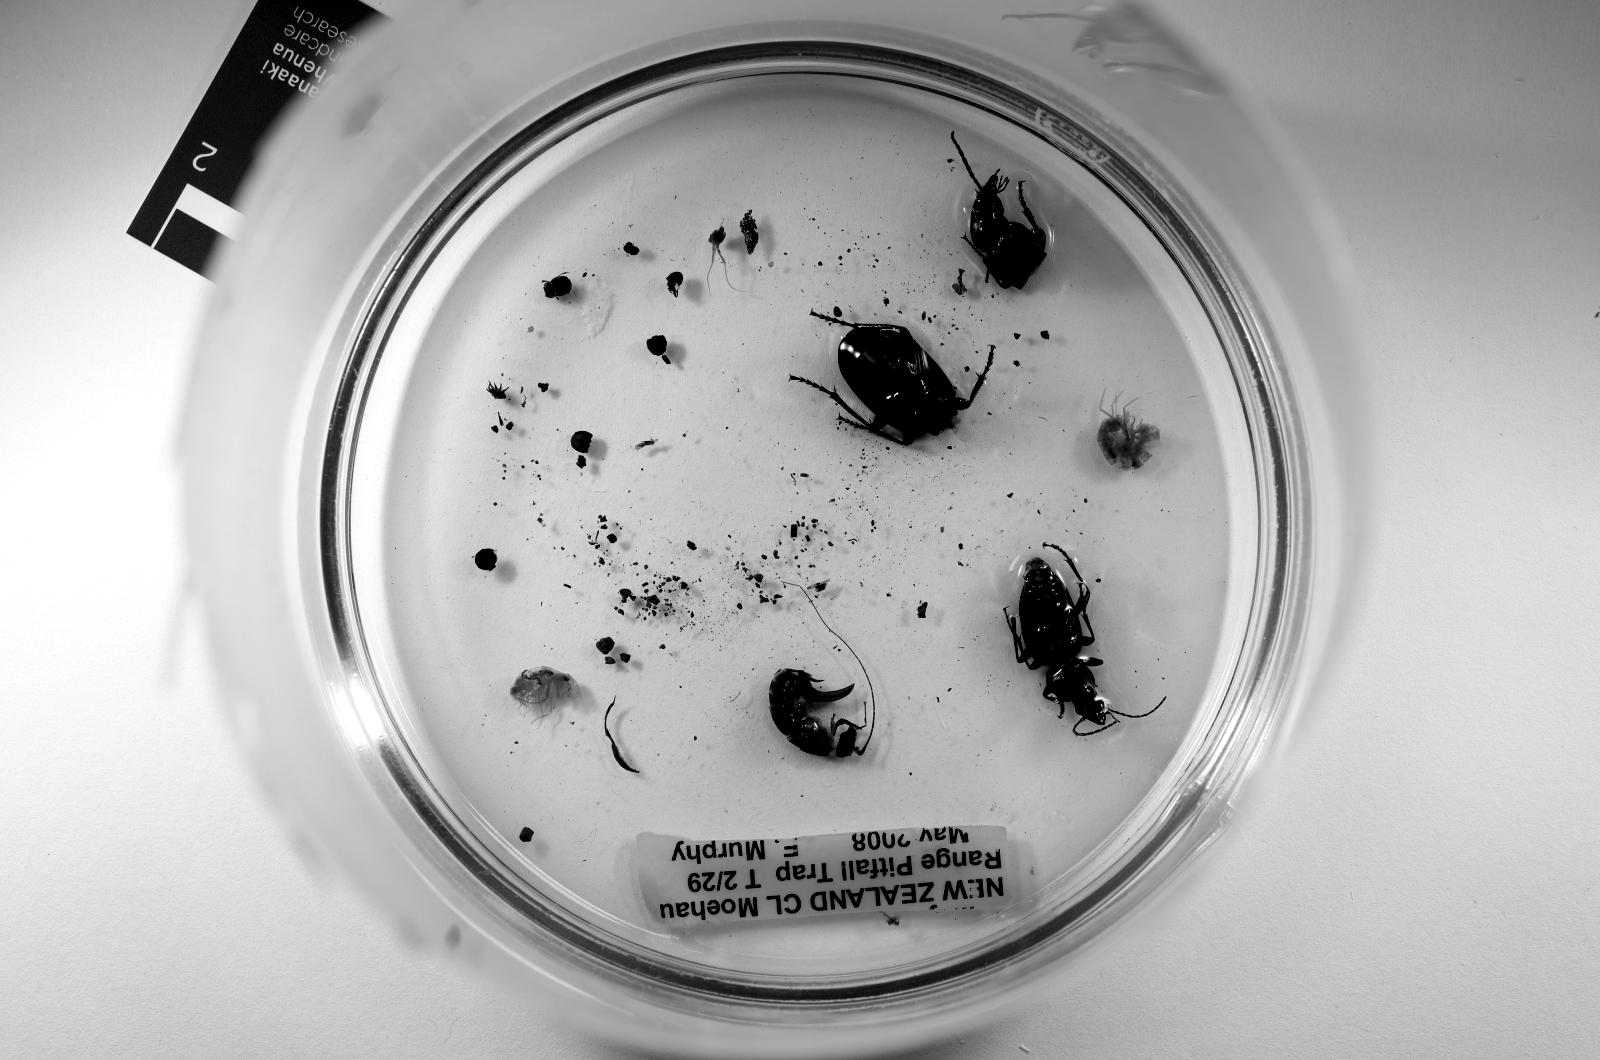amphipoda: (1097, 394, 1159, 469), (509, 668, 581, 720)
carabidae: (1006, 543, 1122, 736)
coleoptera: (544, 276, 572, 298)
orthoptera: (769, 649, 875, 758)
